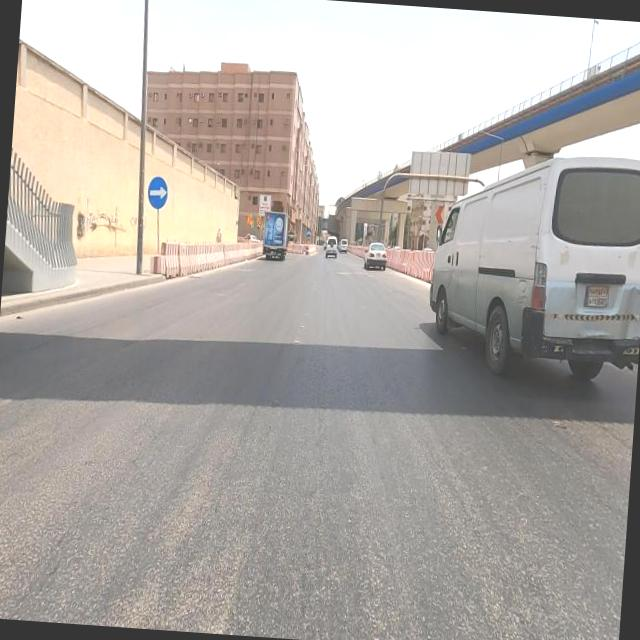debris: (49, 168, 150, 276)
